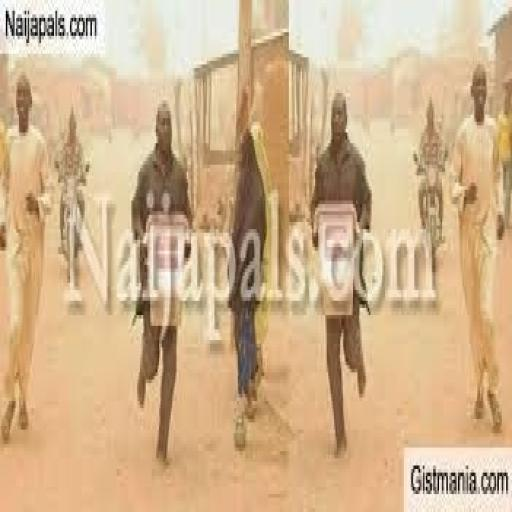running: (127, 93, 197, 473), (306, 86, 375, 462), (448, 57, 508, 437), (0, 68, 53, 448), (223, 78, 274, 454)
